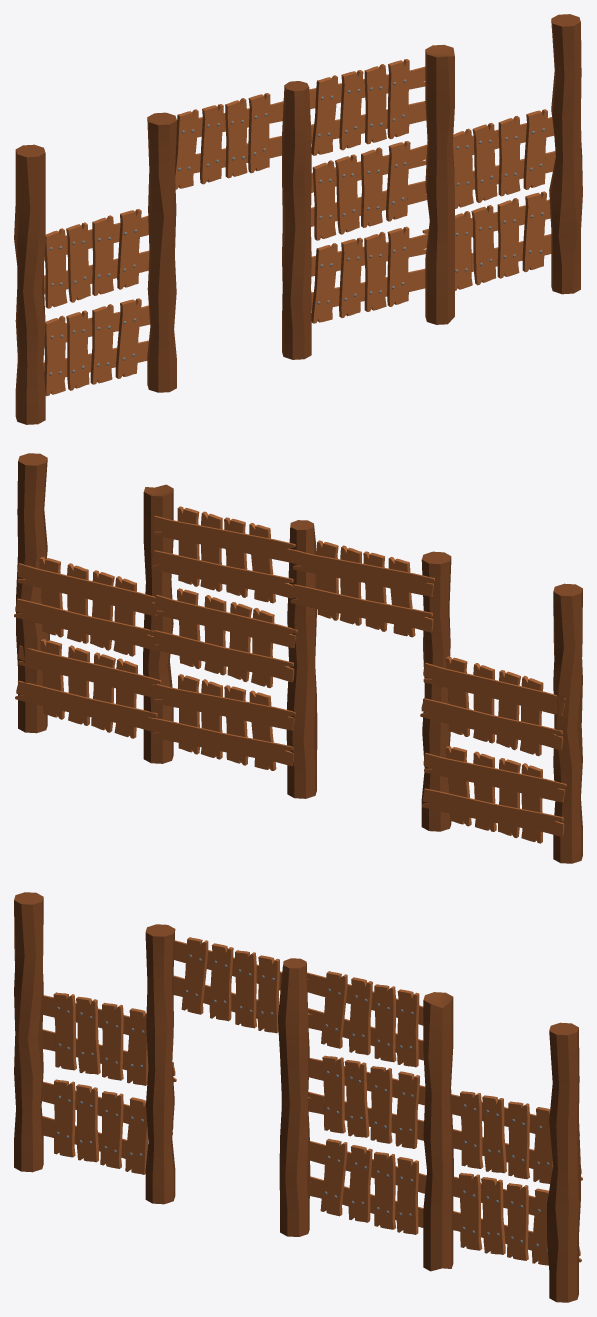
The model's file is Fence1.fbx.
The picture shows the model from 3 angles, top to bottom: view 1: azimuth 30°, elevation 25°; view 2: azimuth 150°, elevation 25°; view 3: azimuth 330°, elevation 25°; orthographic projection.
Visible parts, largest first — view 1: fence_01; view 2: fence_01; view 3: fence_01.
Boxes of the visible parts, left/top/right/bottom form: fence_01: left=14, top=14, right=582, bottom=424; fence_01: left=14, top=453, right=582, bottom=863; fence_01: left=14, top=892, right=582, bottom=1302.
Bounding box in the file's own units: 17.95 × 8.14 × 1.07.
